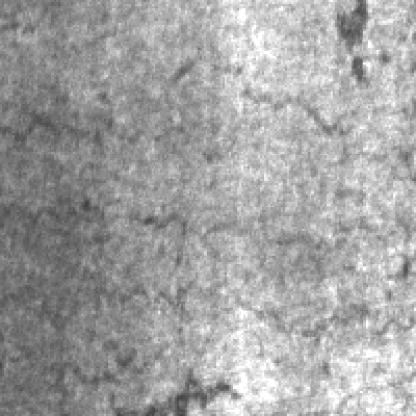crazing: (108, 204, 416, 339), (4, 116, 108, 404), (258, 94, 416, 244)
